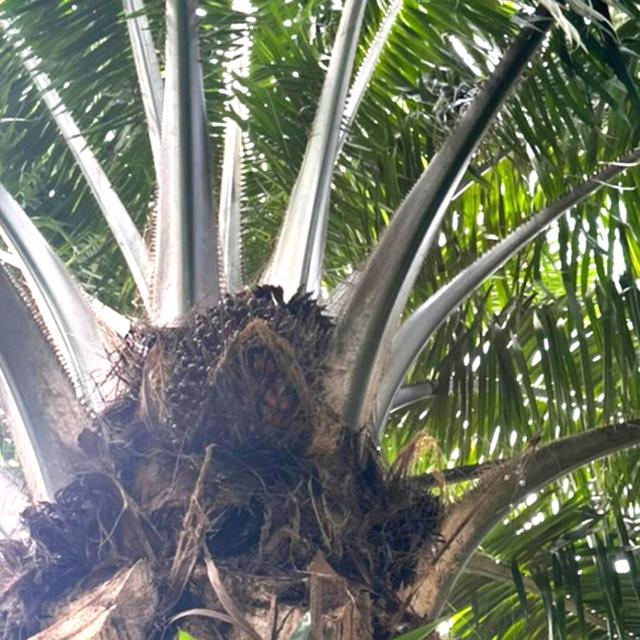ripe: (159, 269, 343, 457)
